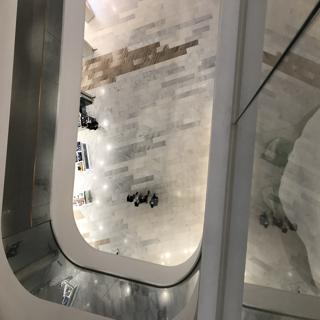person: (143, 191, 163, 211), (121, 188, 135, 208)
